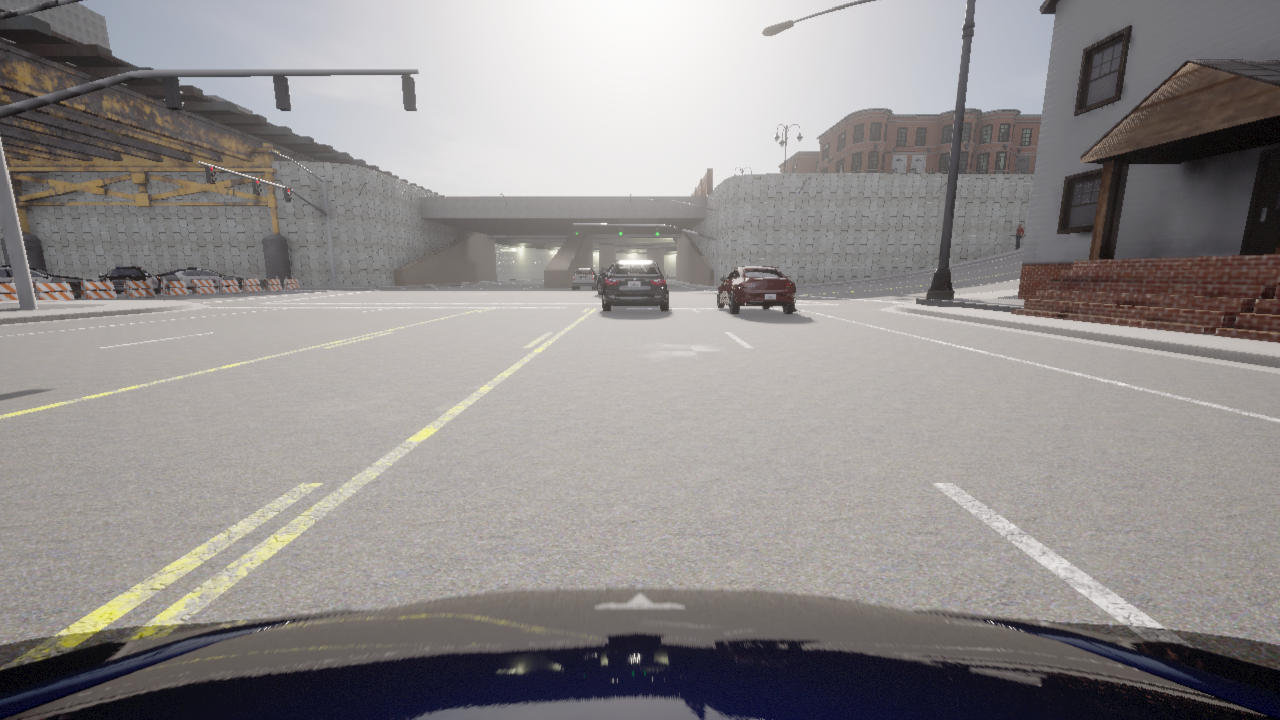cyclist: (0, 588, 1279, 719), (715, 266, 798, 314), (0, 265, 106, 298), (602, 260, 668, 310), (154, 268, 243, 289), (97, 267, 161, 294), (596, 260, 620, 295), (99, 273, 147, 289), (572, 268, 597, 289), (601, 267, 608, 270), (594, 271, 604, 273), (157, 276, 160, 278)
pedestrian: (1014, 224, 1023, 249)
